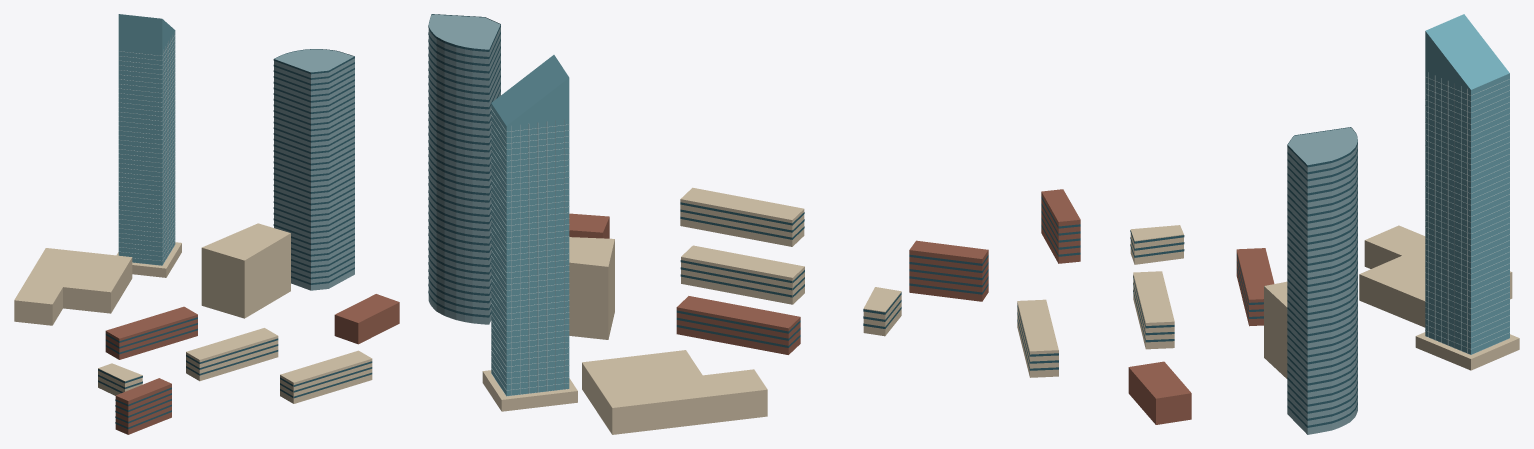
File: city_1_-6.glb
The picture shows the model from 3 angles, left to right: view 1: azimuth 30°, elevation 25°; view 2: azimuth 150°, elevation 25°; view 3: azimuth 270°, elevation 25°; orthographic projection. The views are drawn at different scales.
Visible parts, largest first — view 1: city_1_-6; view 2: city_1_-6; view 3: city_1_-6.
Part boxes in pixels (<box>): city_1_-6: <box>14,14,399,434</box>; city_1_-6: <box>428,14,988,434</box>; city_1_-6: <box>1017,14,1519,434</box>.
Bounding box in the file's own units: 249 × 180 × 259.
